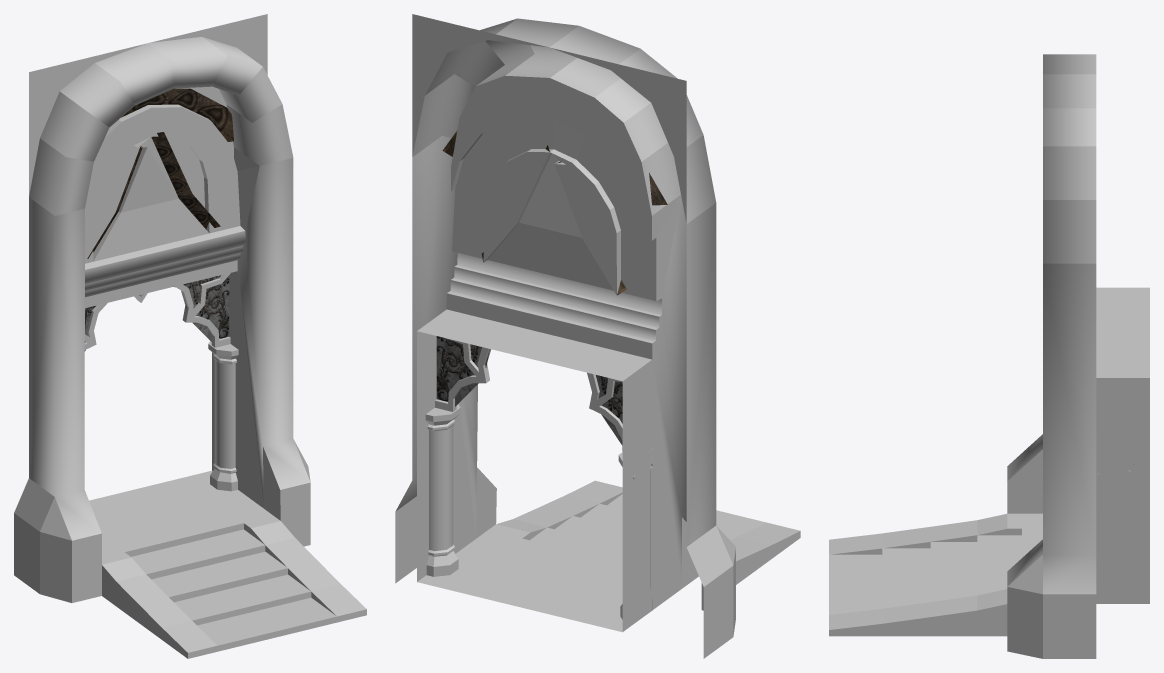
File: door_frame_elevator.dae
3 renders of one model, left to right at view 1: azimuth 30°, elevation 25°; view 2: azimuth 150°, elevation 25°; view 3: azimuth 270°, elevation 25°, orthographic. The views are drawn at different scales.
Parts seen in each view (by area): view 1: polySurface171, polySurface168, polySurface169; view 2: polySurface171, polySurface168, polySurface169; view 3: polySurface171.
Part boxes in pixels (x1,y1,x2,y2): polySurface171: (14, 14, 366, 658); polySurface168: (84, 88, 233, 351); polySurface169: (85, 88, 233, 341); polySurface171: (395, 14, 800, 658); polySurface168: (436, 130, 667, 444); polySurface169: (436, 132, 662, 443); polySurface171: (829, 54, 1149, 658).
Size of what is drawn, in the model's own units: 450 by 800 by 450.
